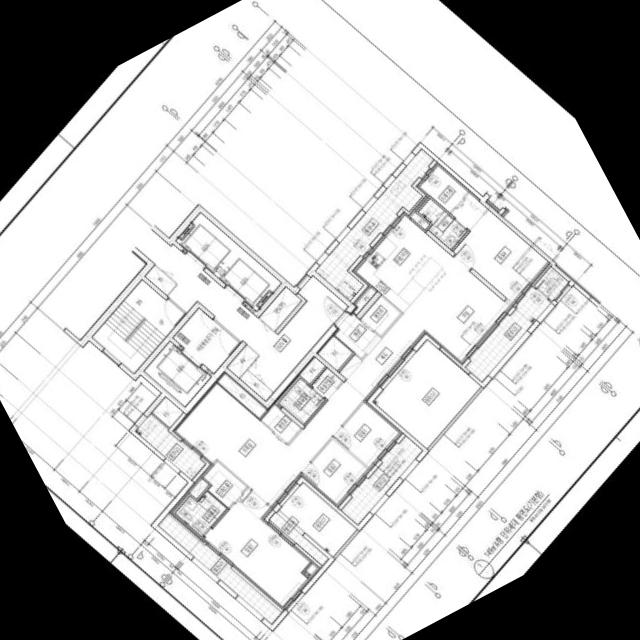background: (0, 0, 640, 640)
space_balconi: (315, 148, 433, 300), (158, 513, 281, 623), (373, 339, 481, 448), (465, 286, 550, 381), (269, 482, 356, 565), (341, 436, 422, 523), (135, 413, 205, 479)
space_bedroom: (203, 487, 312, 609), (453, 209, 550, 304), (301, 438, 369, 506), (334, 401, 402, 468)
space_dressroom: (416, 162, 487, 230), (203, 460, 246, 506)
space_elevator: (176, 212, 281, 310), (144, 341, 211, 406)
space_elevator_hall: (136, 229, 348, 391)
space_front: (333, 311, 382, 358)
space_kitchen: (352, 211, 452, 312)
space_living_room: (173, 255, 511, 508)
space_other: (217, 371, 267, 417), (259, 286, 301, 330), (261, 402, 301, 442), (361, 295, 400, 335), (316, 335, 352, 370), (534, 266, 568, 300), (240, 369, 273, 400), (227, 344, 258, 377), (152, 396, 183, 427), (145, 264, 176, 294), (298, 356, 325, 383), (353, 285, 376, 314), (188, 476, 209, 498), (409, 210, 429, 229), (304, 562, 320, 578)
space_staircase: (92, 279, 185, 372)
space_toilet: (279, 367, 342, 423), (418, 197, 467, 249), (175, 490, 226, 536)
